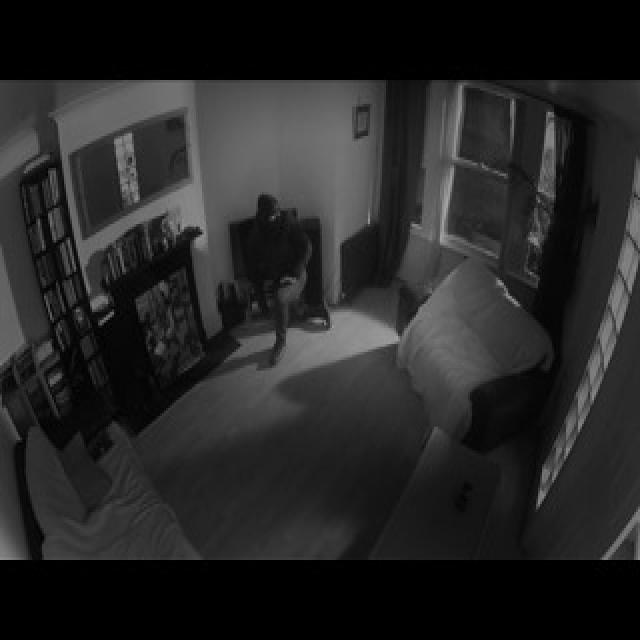thief: (241, 184, 339, 353)
